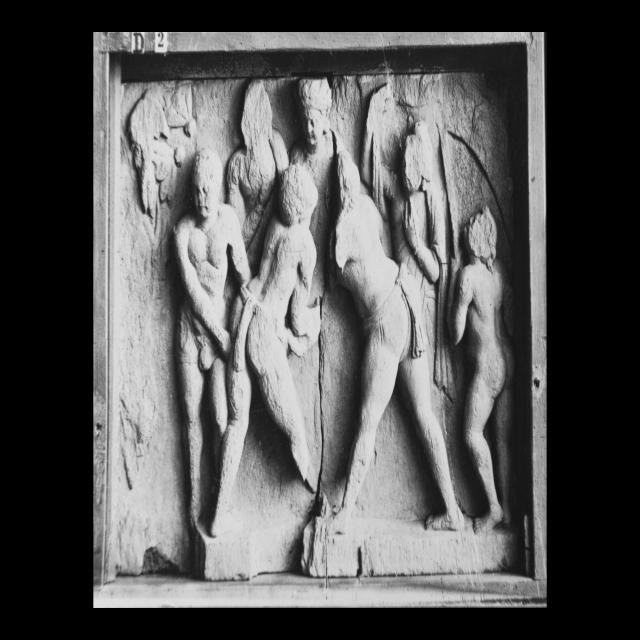buddha-standing: (290, 78, 335, 269)
